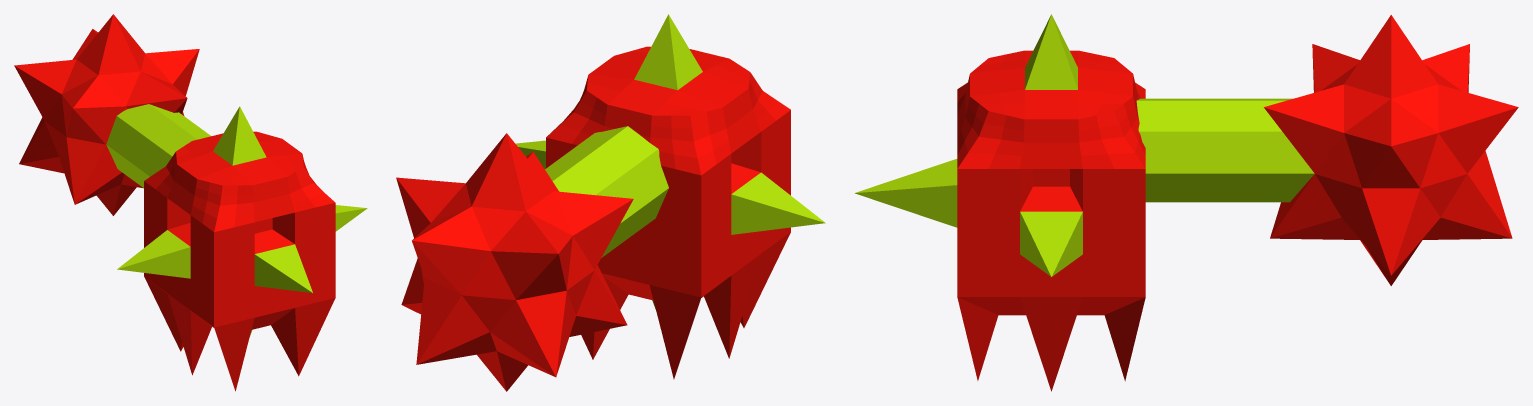
The model's file is enemy.01.ball.fbx.
3 renders of one model, left to right at view 1: azimuth 30°, elevation 25°; view 2: azimuth 150°, elevation 25°; view 3: azimuth 270°, elevation 25°, orthographic. The views are drawn at different scales.
Visible parts, largest first — view 1: Enemy.001, Enemy.002; view 2: Enemy.001, Enemy.002; view 3: Enemy.001, Enemy.002.
Boxes of the visible parts, x1,y1,x2,y2 form: Enemy.001: (106,104,367,391); Enemy.002: (14,14,199,215); Enemy.001: (515,14,825,379); Enemy.002: (396,133,633,391); Enemy.001: (854,14,1314,391); Enemy.002: (1264,15,1518,285).
Bounding box in the file's own units: 413 × 406 × 705.
